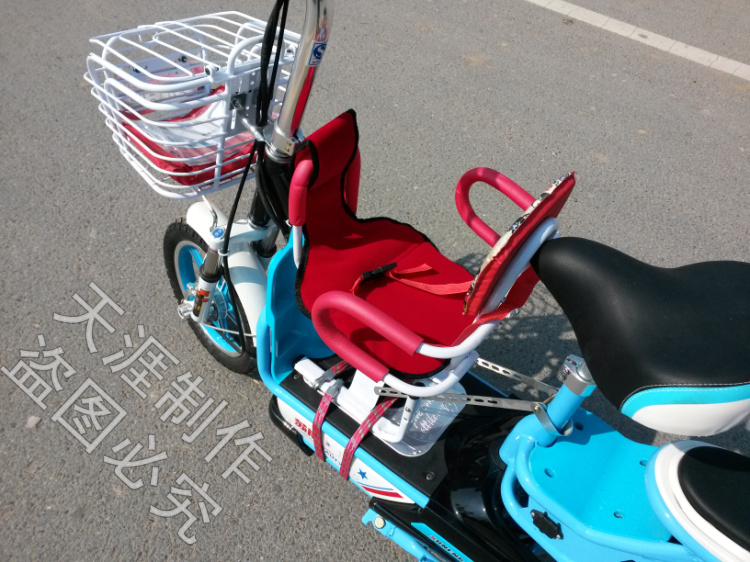电动车: (77, 3, 750, 560)
